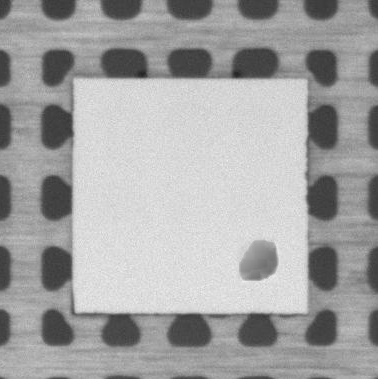DIE_INK: (232, 234, 282, 288)
